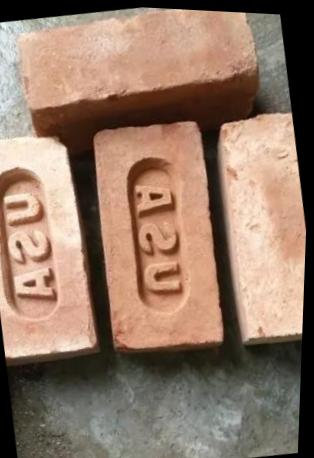brick: (82, 112, 236, 364), (11, 1, 265, 129), (0, 127, 108, 368), (213, 108, 310, 347)
